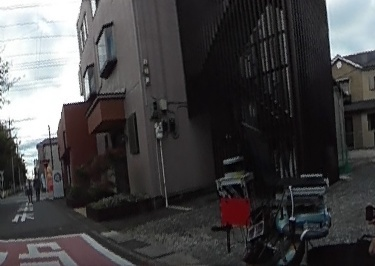person: (31, 171, 43, 200), (22, 176, 33, 201)
